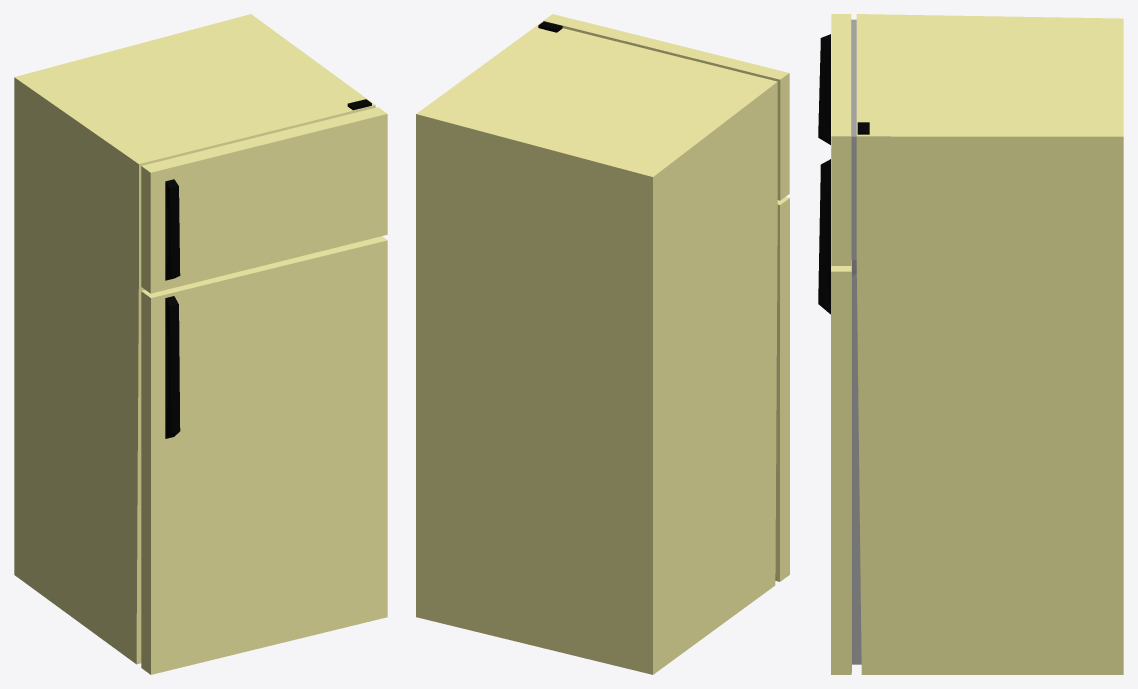
Rendered from FRIDGE_V1.fbx.
The picture shows the model from 3 angles, left to right: view 1: azimuth 30°, elevation 25°; view 2: azimuth 150°, elevation 25°; view 3: azimuth 270°, elevation 25°; orthographic projection. The views are drawn at different scales.
Visible parts, largest first — view 1: Cube; view 2: Cube; view 3: Cube.
Part boxes in pixels (x1,y1,x2,y2): Cube: (14,14,387,674); Cube: (416,14,789,674); Cube: (818,14,1123,674).
Bounding box in the file's own units: 203 × 414 × 212.
